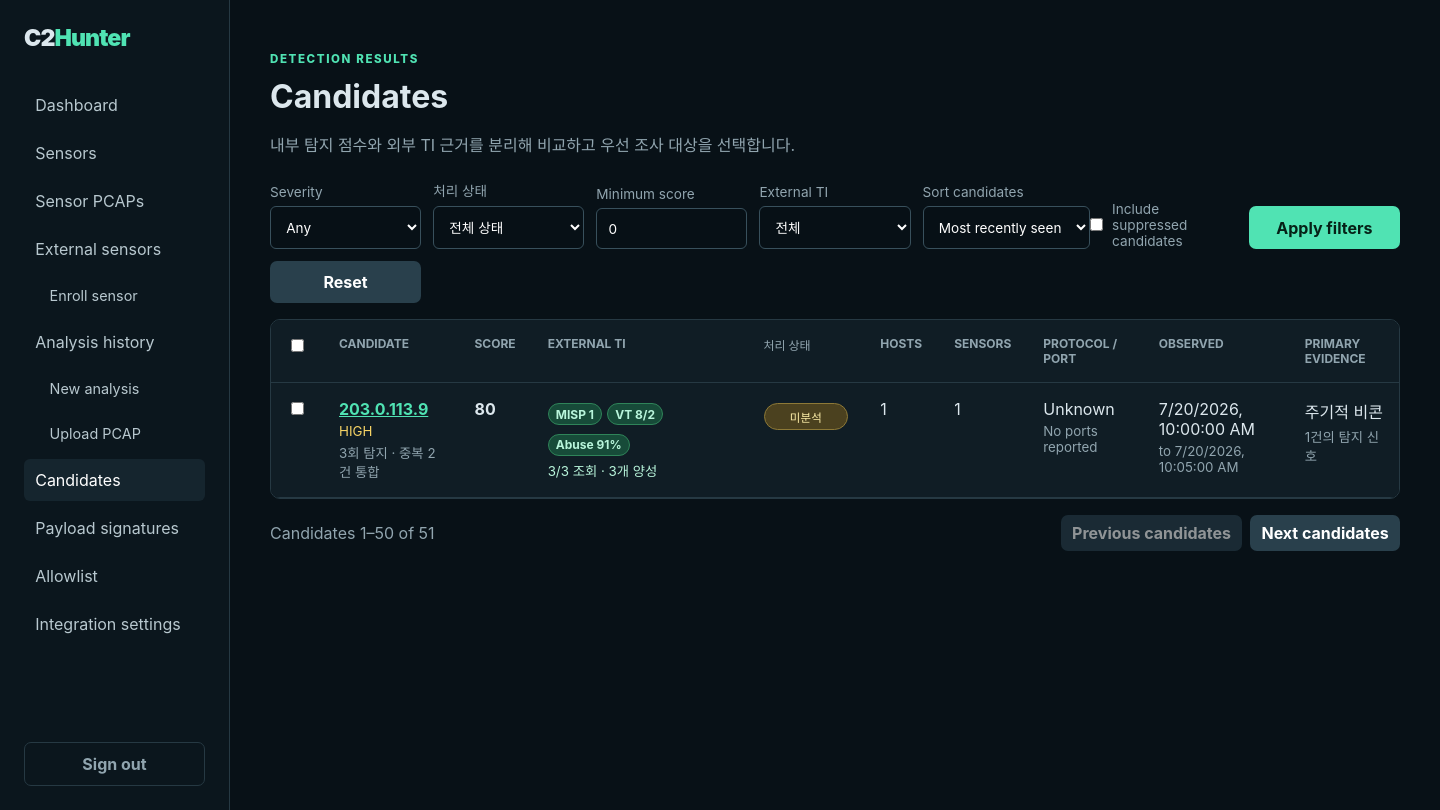
C2Hunter UI › filters, sorts, and paginates candidates through the Controller API
The width and height of the screenshot is (1440, 810).
Expected: the link "203.0.113.9" is shown, [339,399,428,419]
Select "HIGH" in the dropdown labelled "Severity" at (346, 228), box [270,206,421,249]
Select "조치 완료" in the dropdown labelled "처리 상태" at (509, 228), box [433,206,584,249]
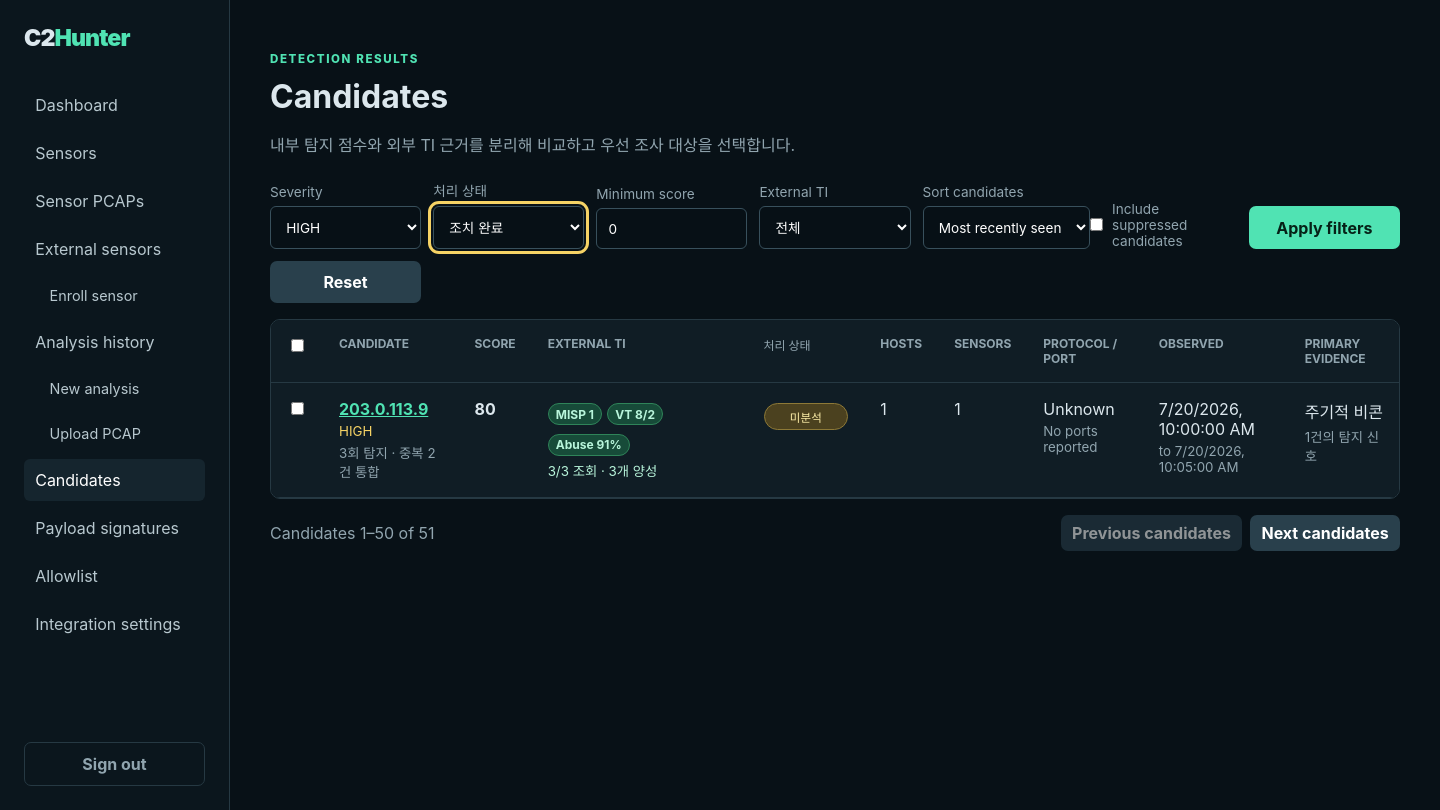
Replace the text in the number field labelled "Minimum score" with "70" at (672, 229), box [596,208,747,249]
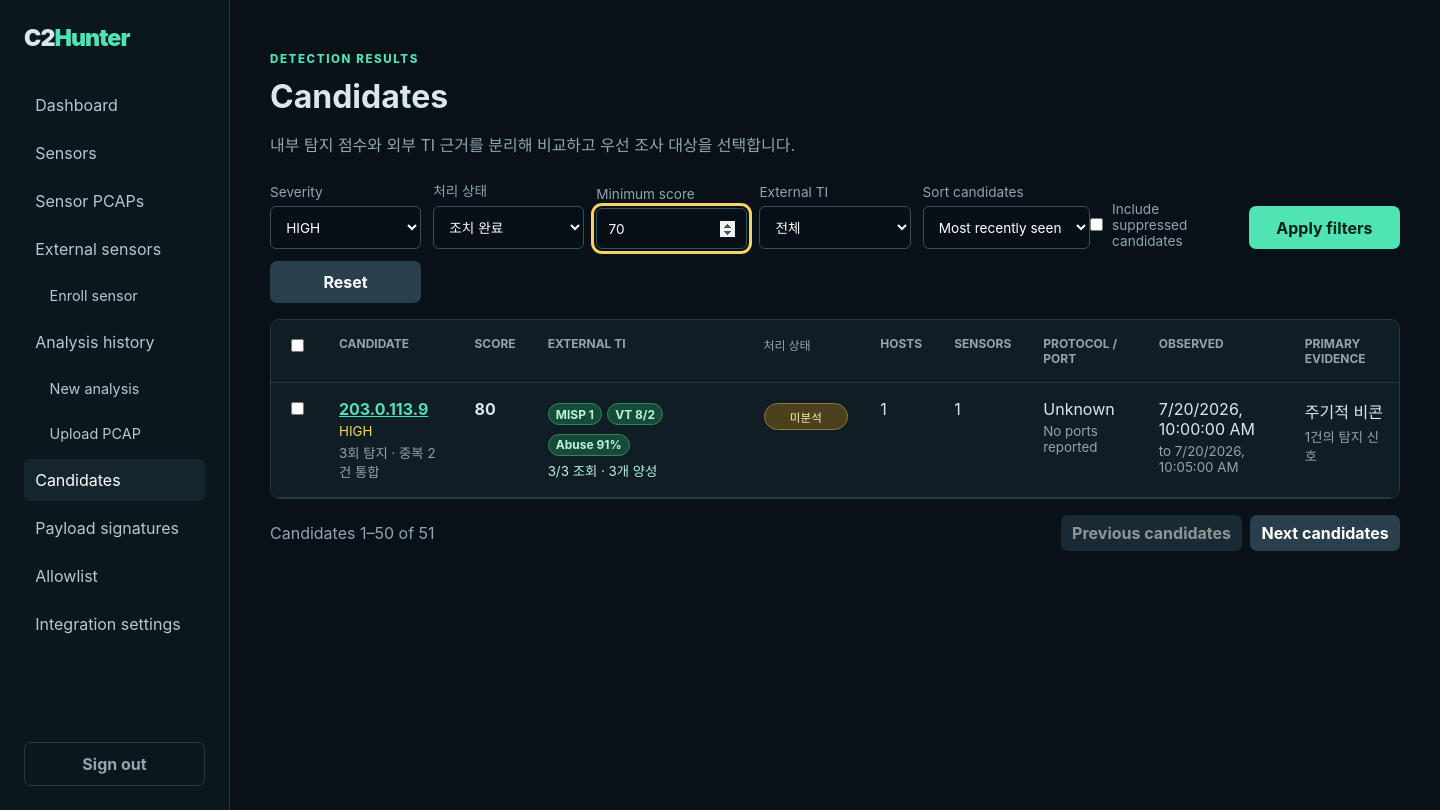
Select "MISP 일치만" in the dropdown labelled "External TI" at (835, 228), box [759,206,910,249]
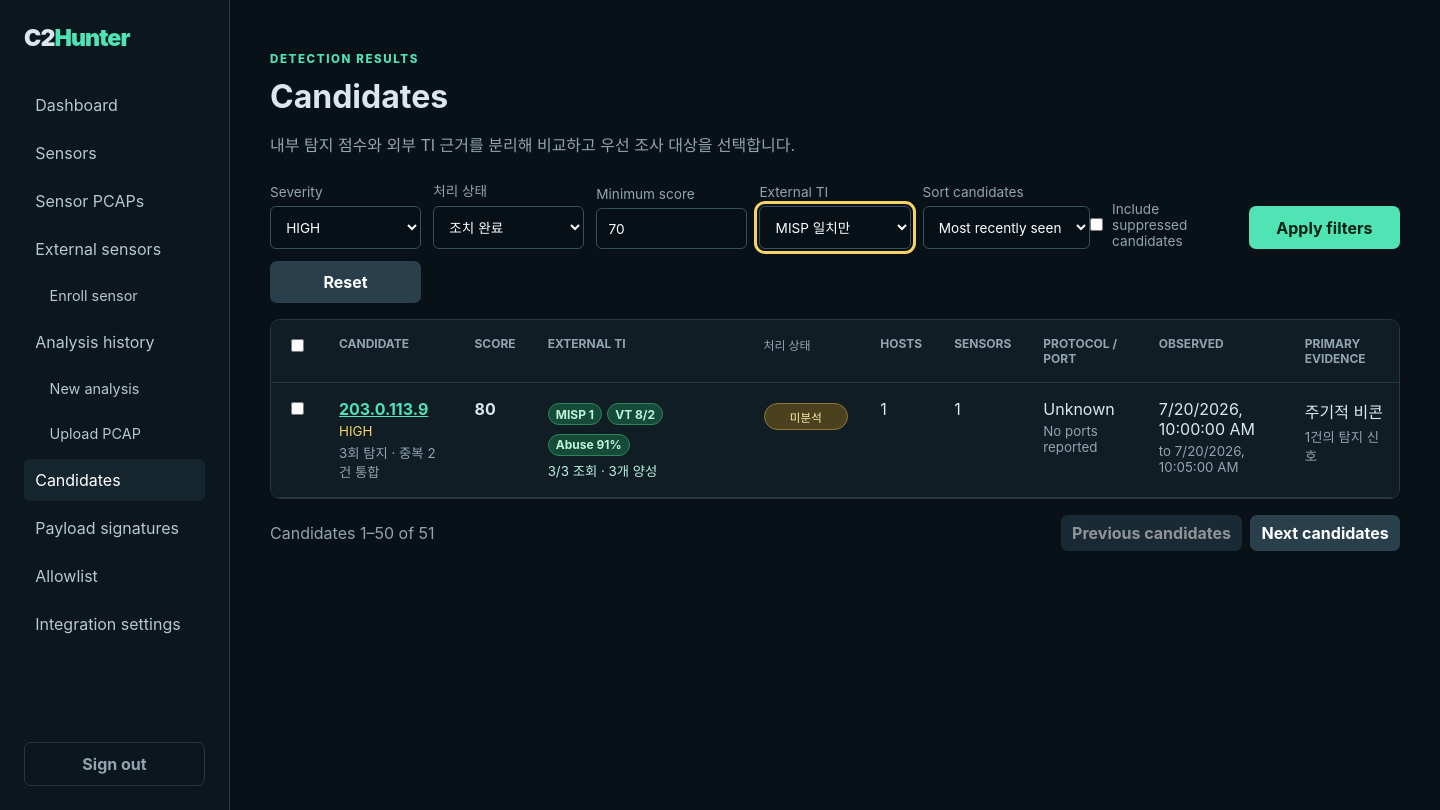
Click the checkbox labelled "Include suppressed candidates" at (1096, 225), box [1090,218,1103,231]
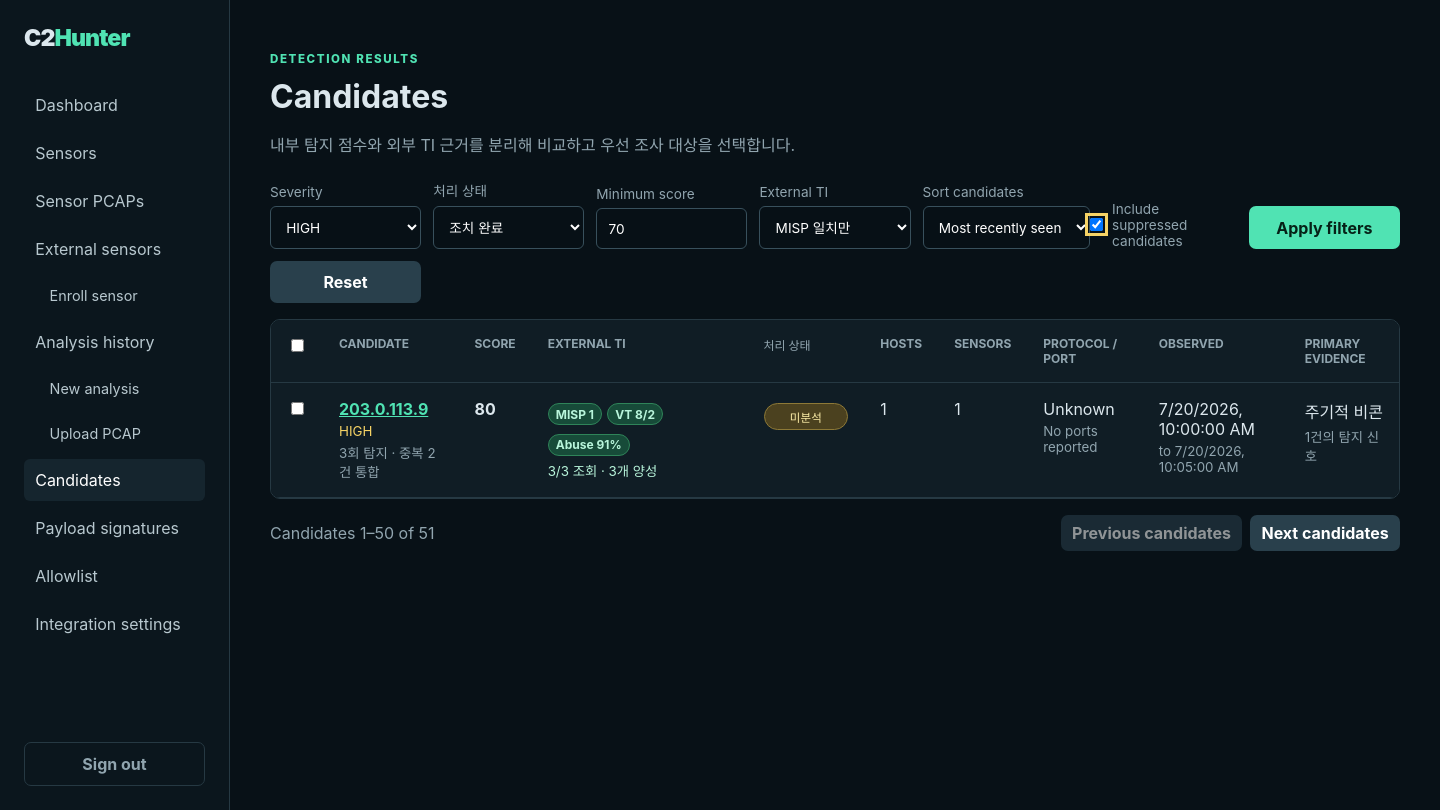
Select "외부 TI 근거 강한 순" in the dropdown labelled "Sort candidates" at (1006, 228), box [923,206,1090,249]
Click the button "Apply filters" at (1324, 228), box [1249,206,1400,249]
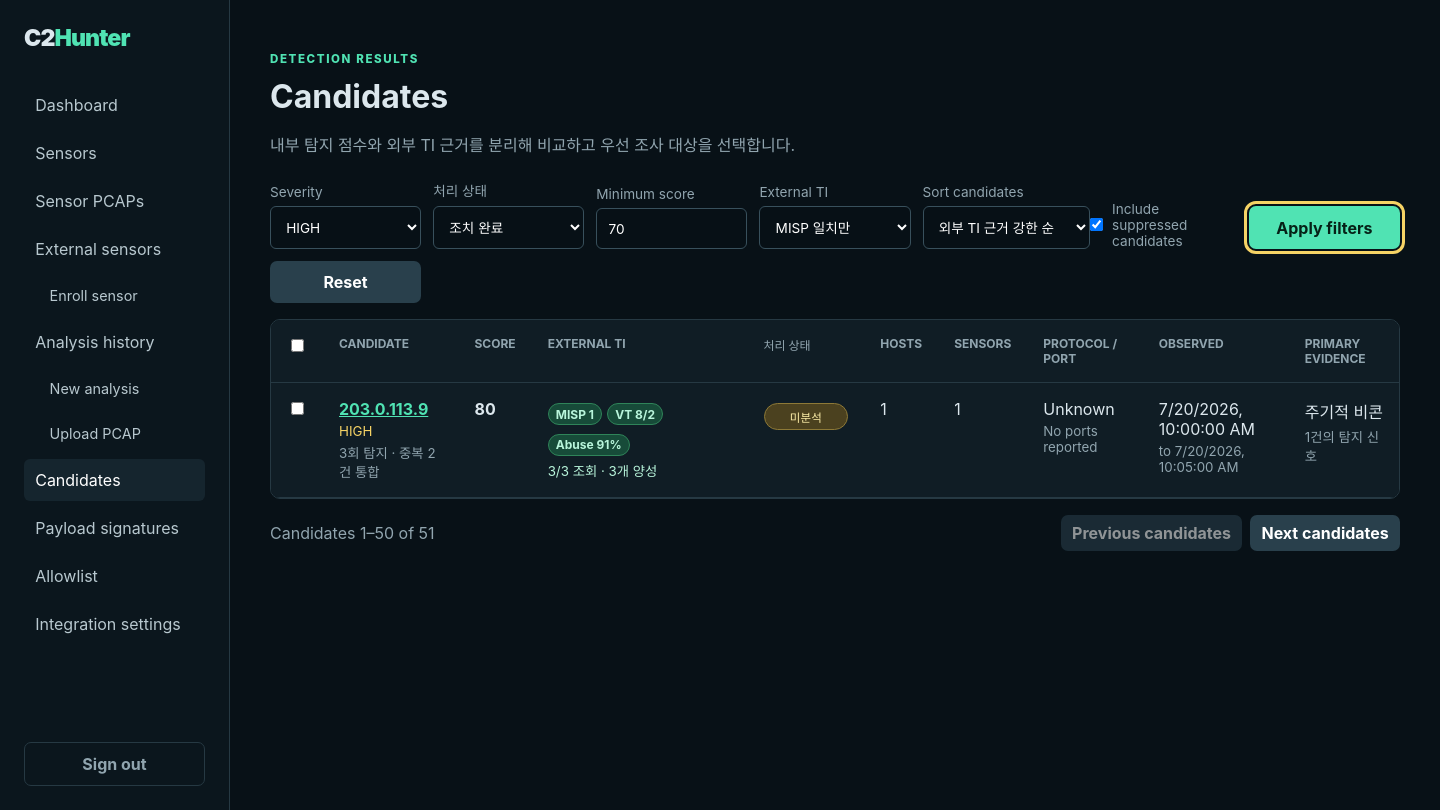
Click the button "Next candidates" at (1325, 533), box [1250,515,1400,551]
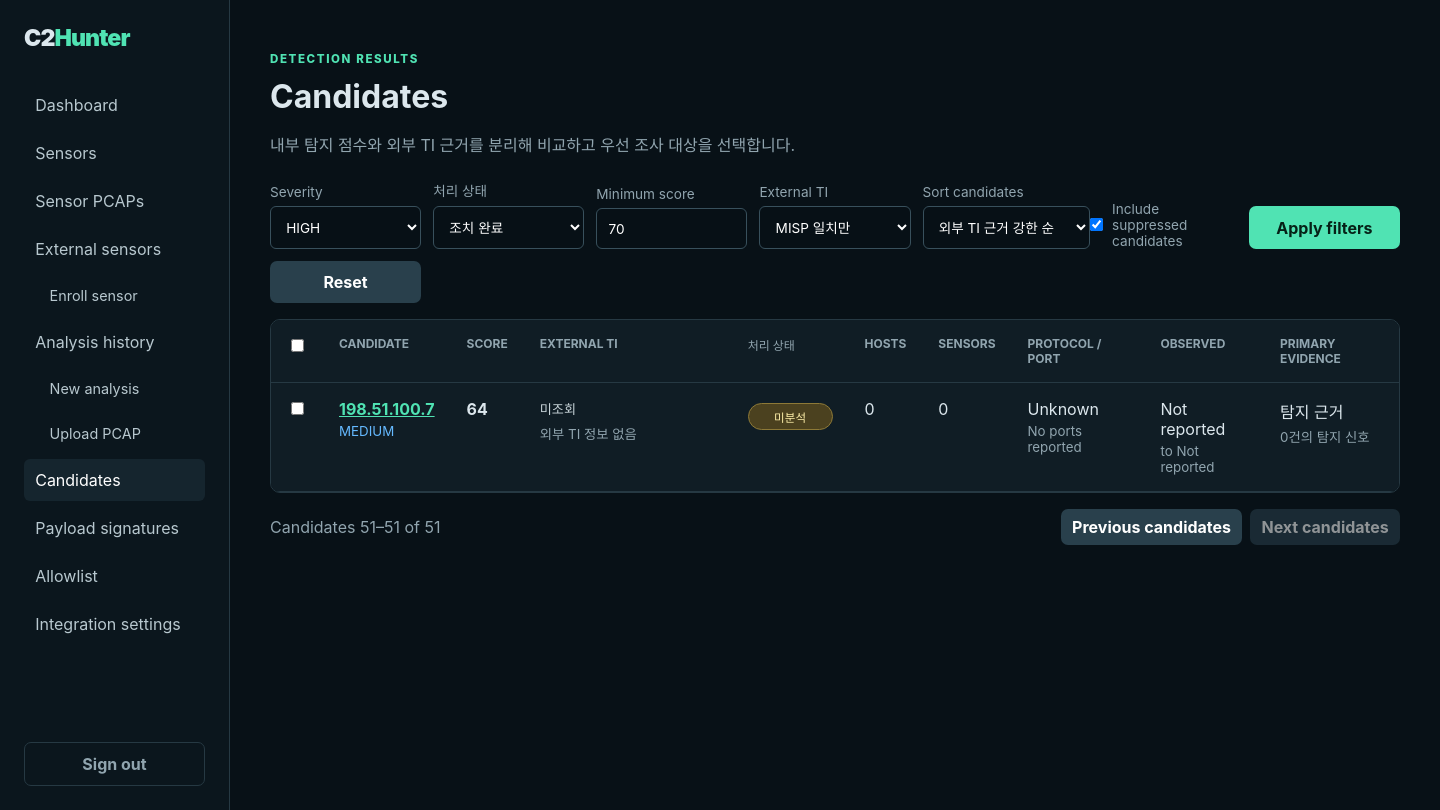
Now the link "198.51.100.7" is shown, box [339,399,435,419]
Now the text "Candidates 51–51 of 51" is shown, box [270,517,440,537]
